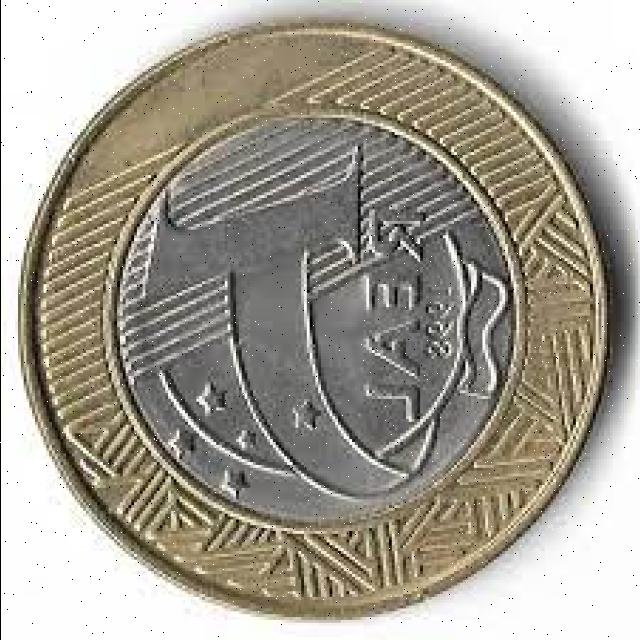1 real: (23, 34, 603, 614)
